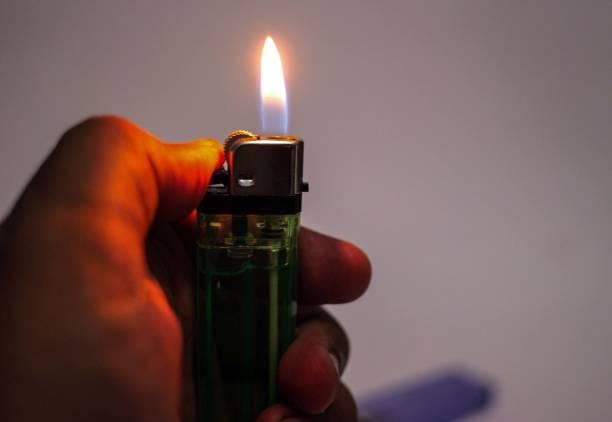Fire: (257, 32, 292, 134)
